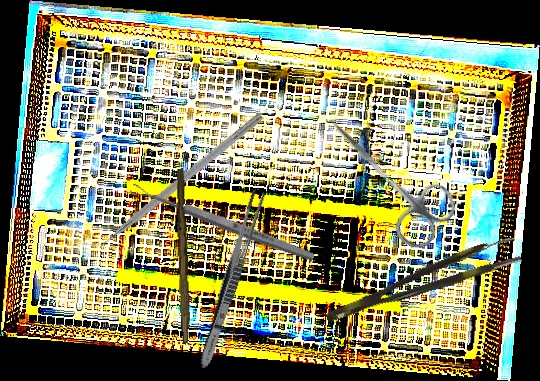Chopper: (79, 103, 265, 258)
Dressing Forceps: (195, 188, 267, 371)
Iris Scissors: (305, 97, 466, 257)
Scalpel Handle: (172, 168, 195, 344)
Surgical Spoon: (129, 181, 316, 264)
Tissue Forceps: (319, 233, 523, 326)
